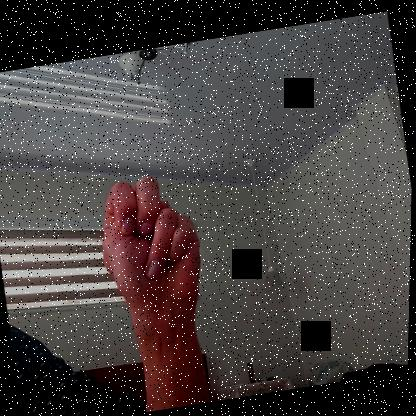N: (89, 166, 216, 326)
